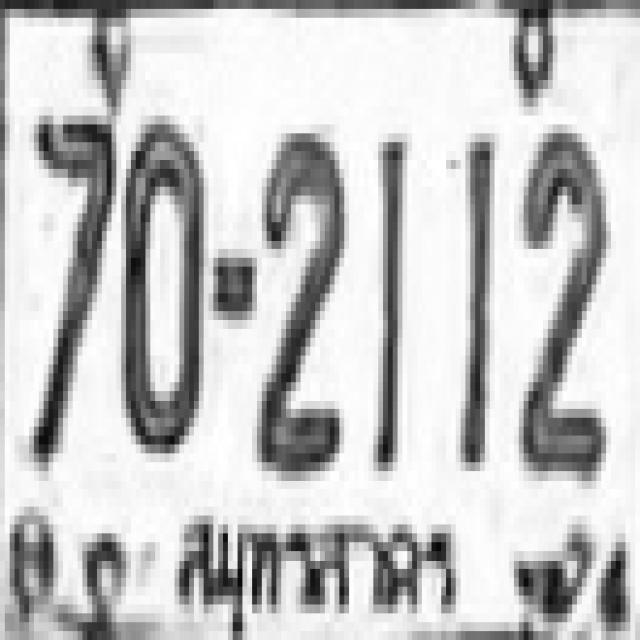0: (119, 111, 201, 449)
1: (458, 129, 492, 467), (371, 129, 405, 467), (456, 129, 490, 467)
2: (254, 120, 342, 467), (516, 120, 604, 467)
7: (27, 111, 114, 458)
SamutSakhon: (170, 504, 463, 634)
